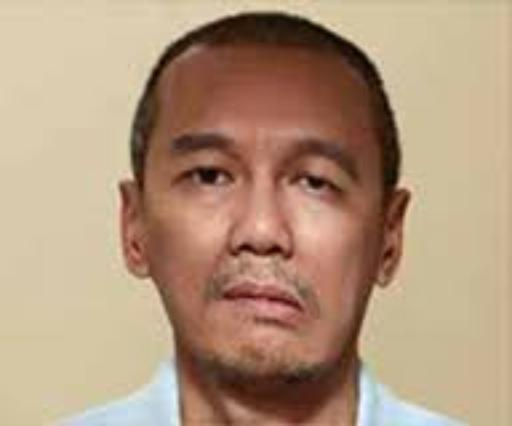left_eye: (292, 177, 346, 198)
left_lip_corner: (286, 293, 309, 319)
right_eye: (174, 166, 239, 192)
right_lip_corner: (210, 289, 238, 310)
